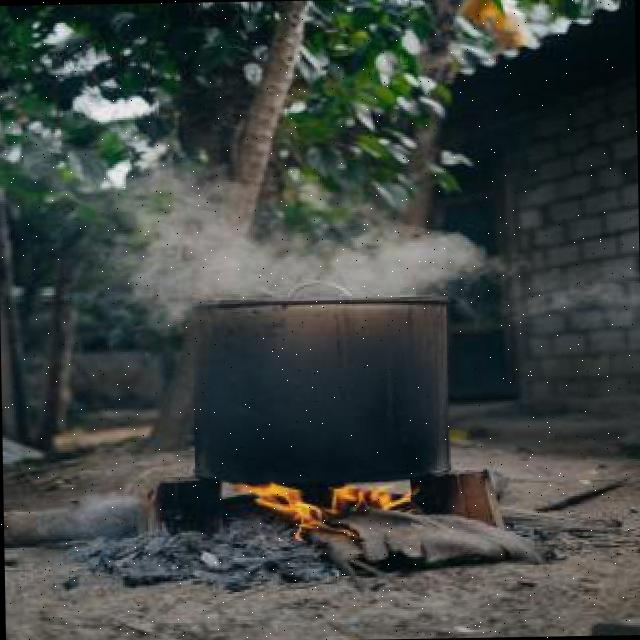fire: (200, 460, 410, 544)
